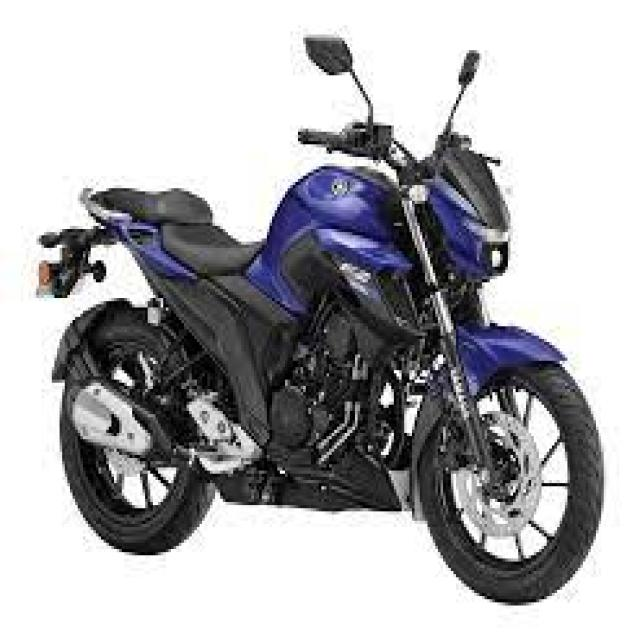MOTORCYCLE: (41, 65, 606, 610)
